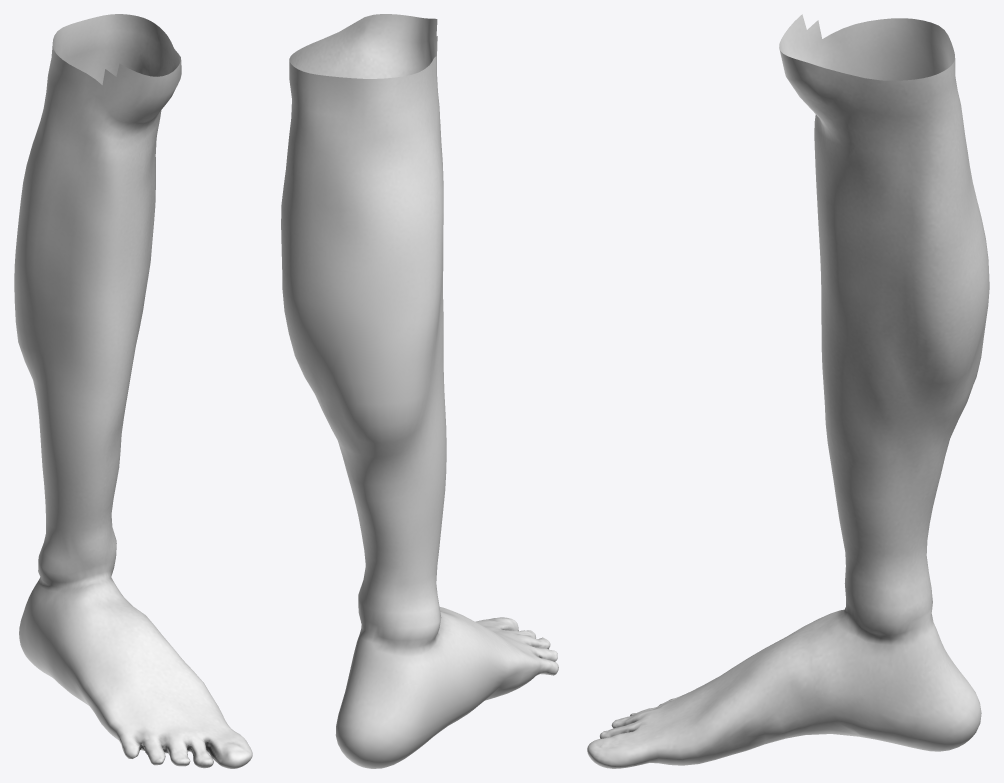
The model's file is pantorrillaDer.obj.
The picture shows the model from 3 angles, left to right: view 1: azimuth 30°, elevation 25°; view 2: azimuth 150°, elevation 25°; view 3: azimuth 270°, elevation 25°; orthographic projection. The views are drawn at different scales.
Parts seen in each view (by area): view 1: pantorrillaDer; view 2: pantorrillaDer; view 3: pantorrillaDer.
Boxes of the visible parts, left/top/right/bottom form: pantorrillaDer: left=14, top=14, right=252, bottom=768; pantorrillaDer: left=281, top=14, right=558, bottom=768; pantorrillaDer: left=587, top=14, right=989, bottom=768.
Size of the model in its own units: 0.012 by 0.0534 by 0.0265.
Materials: 1 (1 with a texture image).
